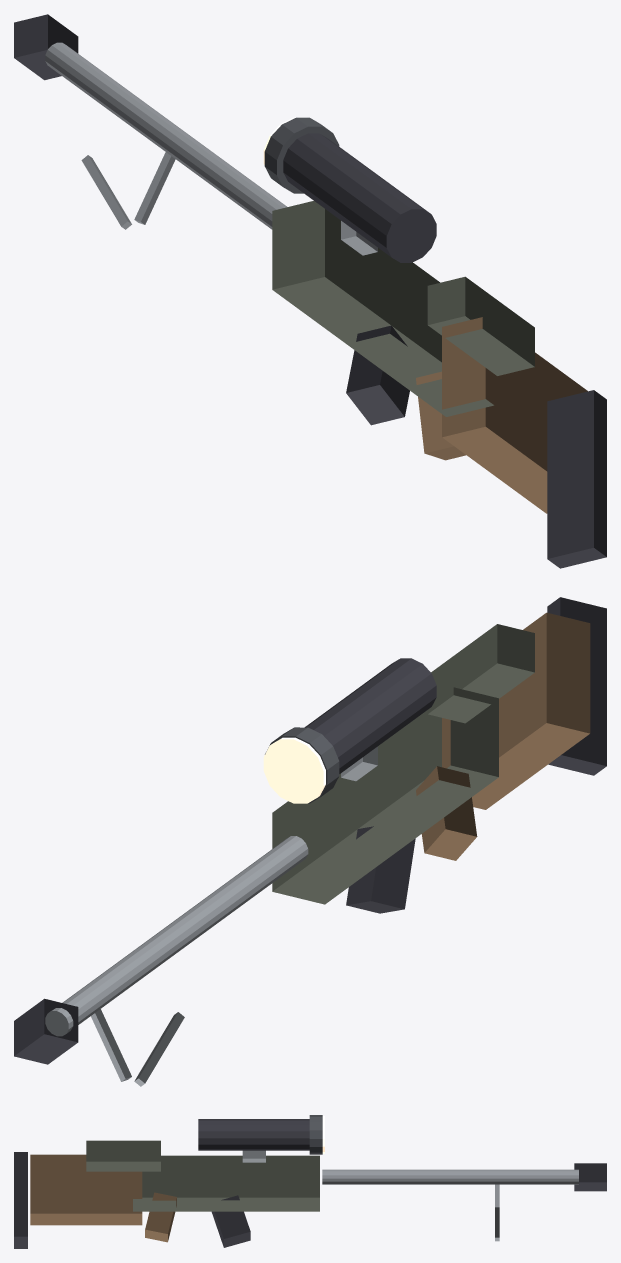
The model's file is sniper.glb.
3 renders of one model, top to bottom at view 1: azimuth 30°, elevation 25°; view 2: azimuth 150°, elevation 25°; view 3: azimuth 270°, elevation 25°, orthographic. The views are drawn at different scales.
Visible parts, largest first — view 1: stock, receiver, barrel, scope; view 2: receiver, stock, barrel, scope, scope-glass; view 3: receiver, stock, barrel, scope.
Part boxes in pixels (box(x1,y1,x2,y2)): stock: box(427, 276, 606, 568); receiver: box(272, 201, 493, 460); barrel: box(14, 14, 287, 229); scope: box(264, 117, 436, 262); receiver: box(272, 687, 498, 913); stock: box(427, 597, 606, 809); barrel: box(14, 836, 308, 1086); scope: box(265, 658, 436, 803); scope-glass: box(263, 737, 325, 803); receiver: box(133, 1155, 319, 1247); stock: box(14, 1140, 160, 1248); barrel: box(322, 1163, 606, 1241); scope: box(198, 1115, 322, 1162).
Bounding box in the file's own units: 0.1315 × 0.2994 × 1.27.
